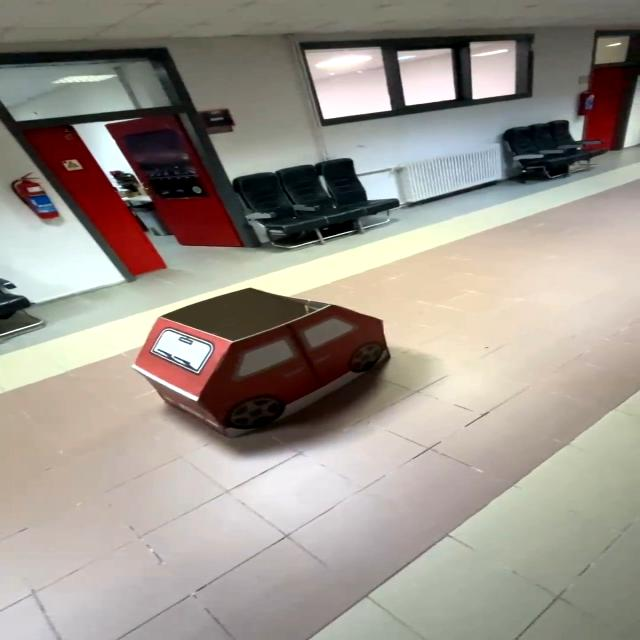red_car: (101, 274, 438, 450)
